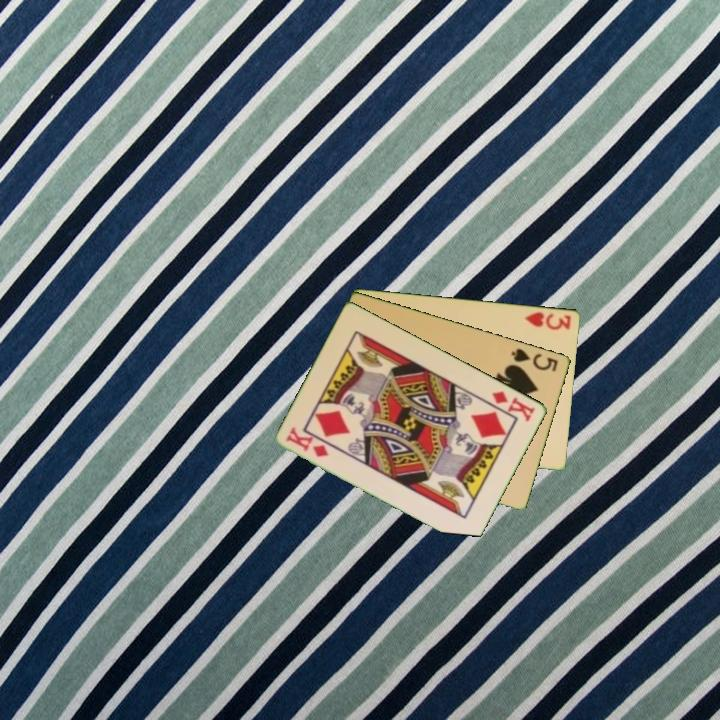3h: (521, 308, 574, 332)
5s: (508, 344, 561, 374)
Kd: (489, 387, 538, 424), (283, 424, 332, 460)
